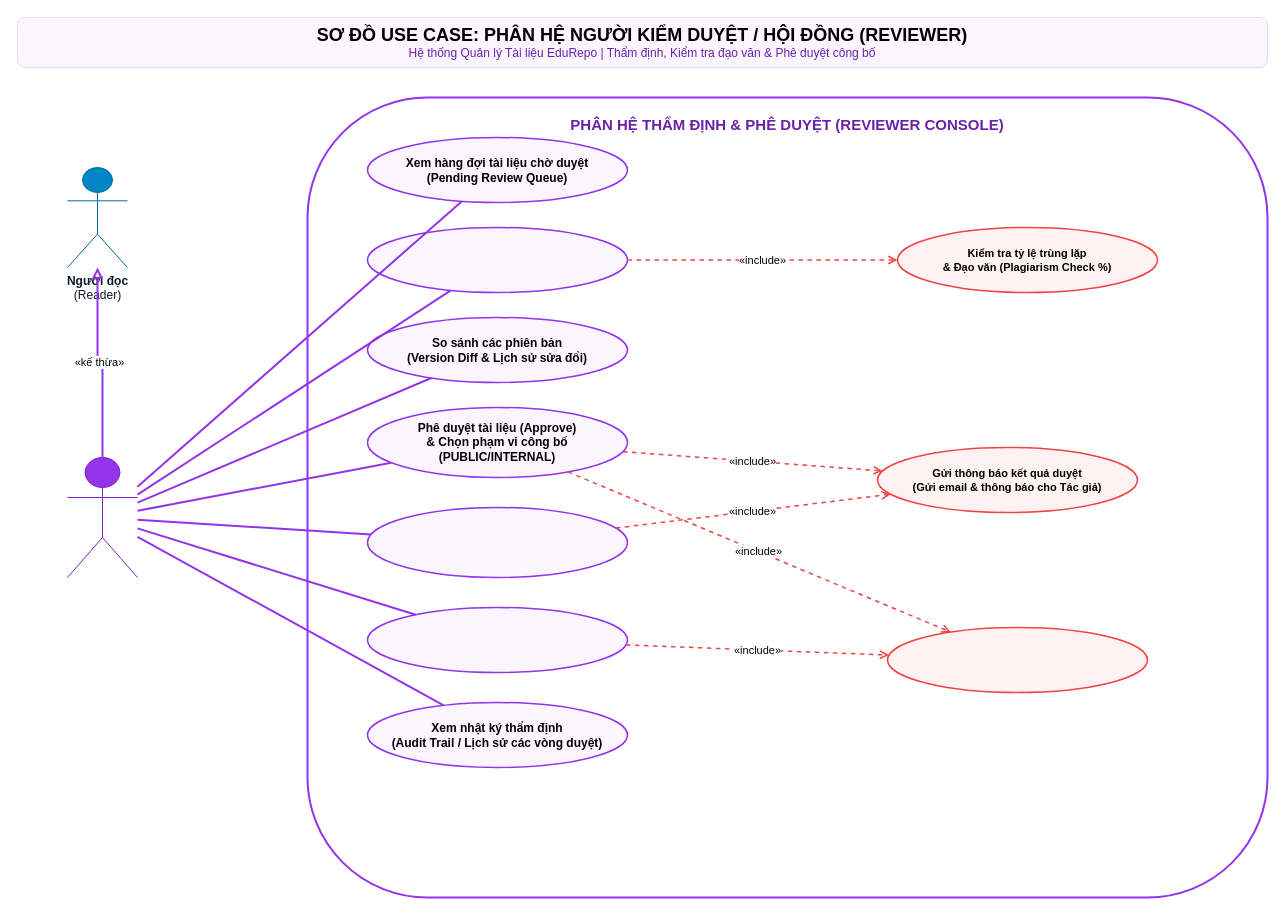
This 1286x916 diagram has some shape labels left out. The centre of each missing label's shape, as x and y in pixels:
Ghi nhật ký quyết định duyệt (Bảng review_workflow): the point at 1017,659
Người kiểm duyệt (Reviewer): the point at 102,517
Từ chối tài liệu (Reject) & Ghi rõ lý do không đạt chuẩn: the point at 497,639
Xem trước tài liệu (Preview PDF) & Kiểm tra thông tin tác giả: the point at 497,259
Yêu cầu chỉnh sửa (Request Edit) & Gửi ghi chú phản hồi cho tác giả: the point at 497,542
